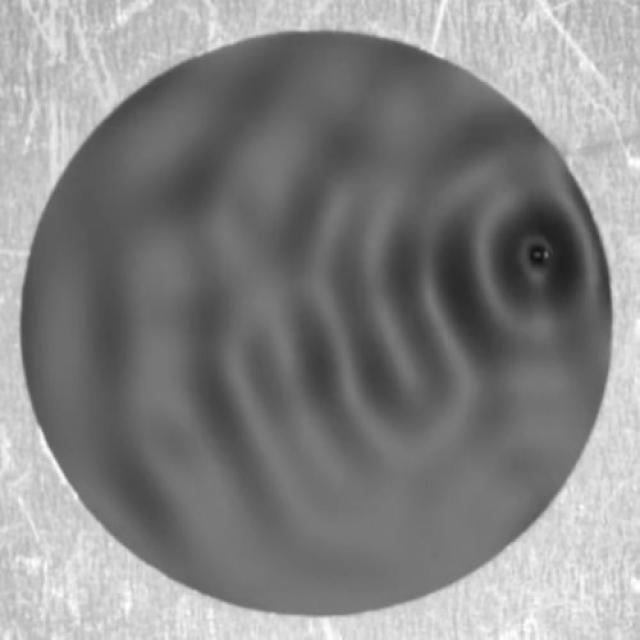droplet: (528, 243, 554, 274)
